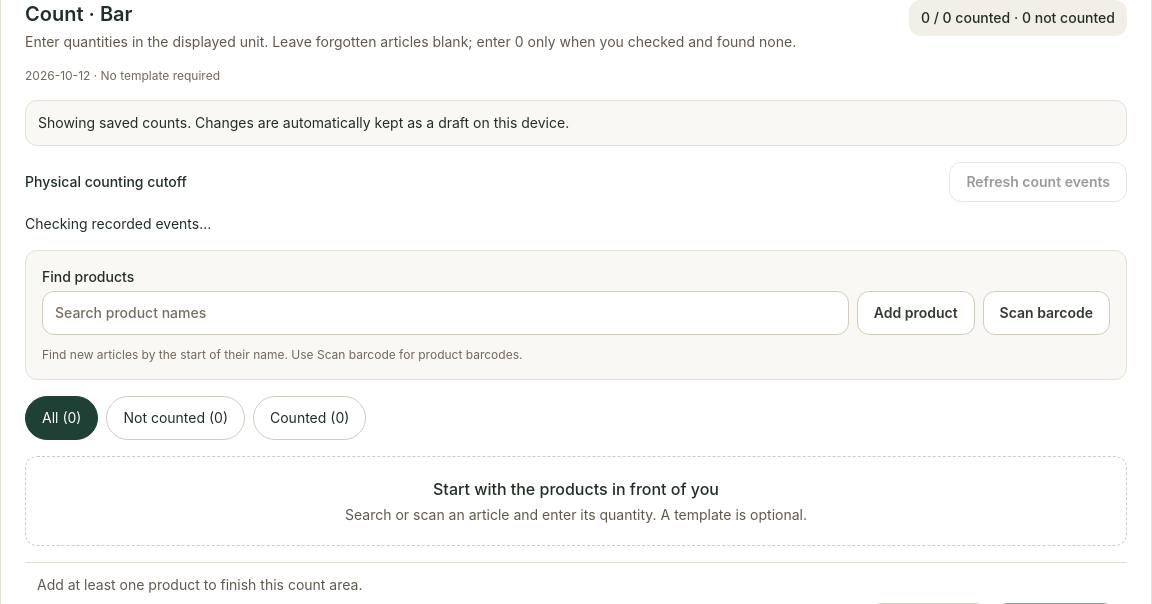
Test case: fails a repeated barcode cursor without silently choosing the first matching article
Click the button "Scan barcode".
click(1046, 313)  # box [983,291,1110,335]
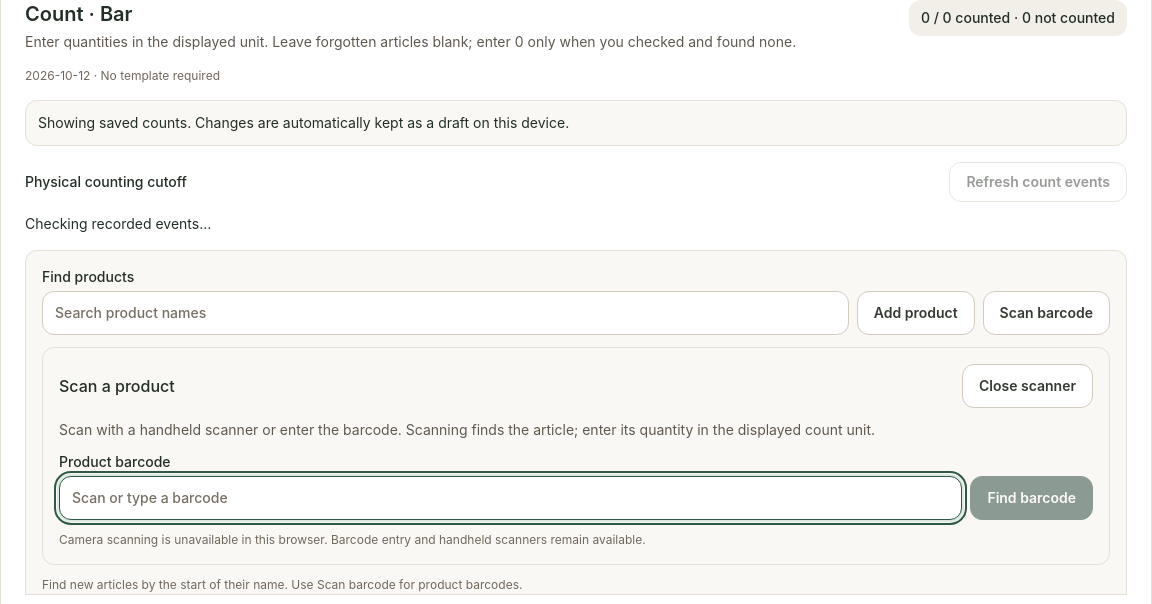
Type "000123" into the field labelled "Product barcode".
click(511, 498); type("000123")  # box [59,476,962,520]
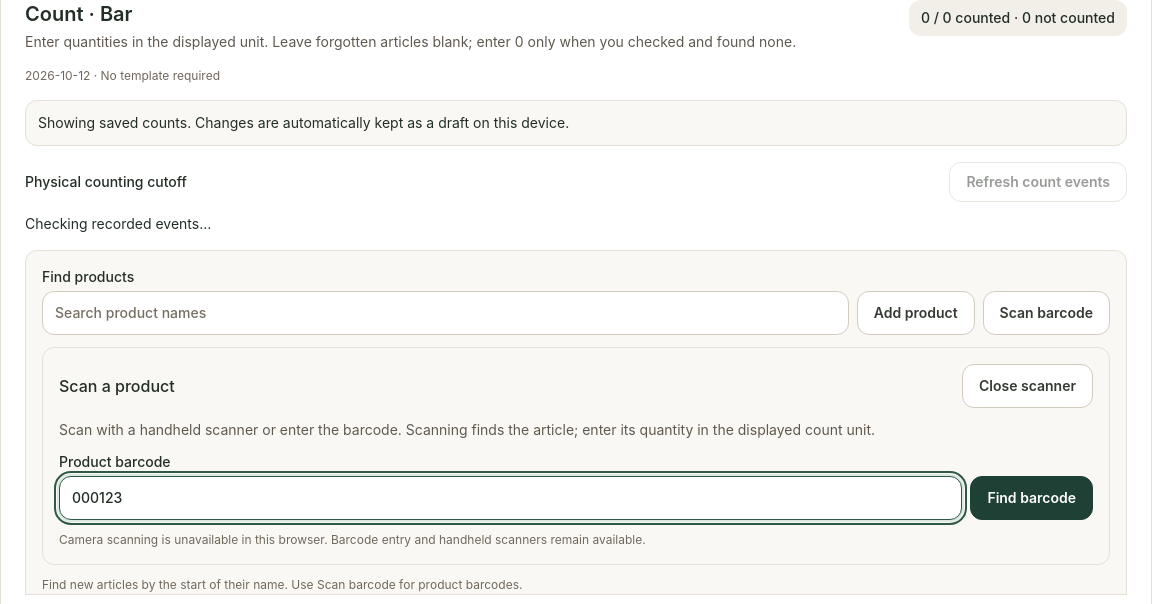
Click the button "Find barcode".
click(1032, 498)  # box [970,476,1093,520]
(page scrolled)
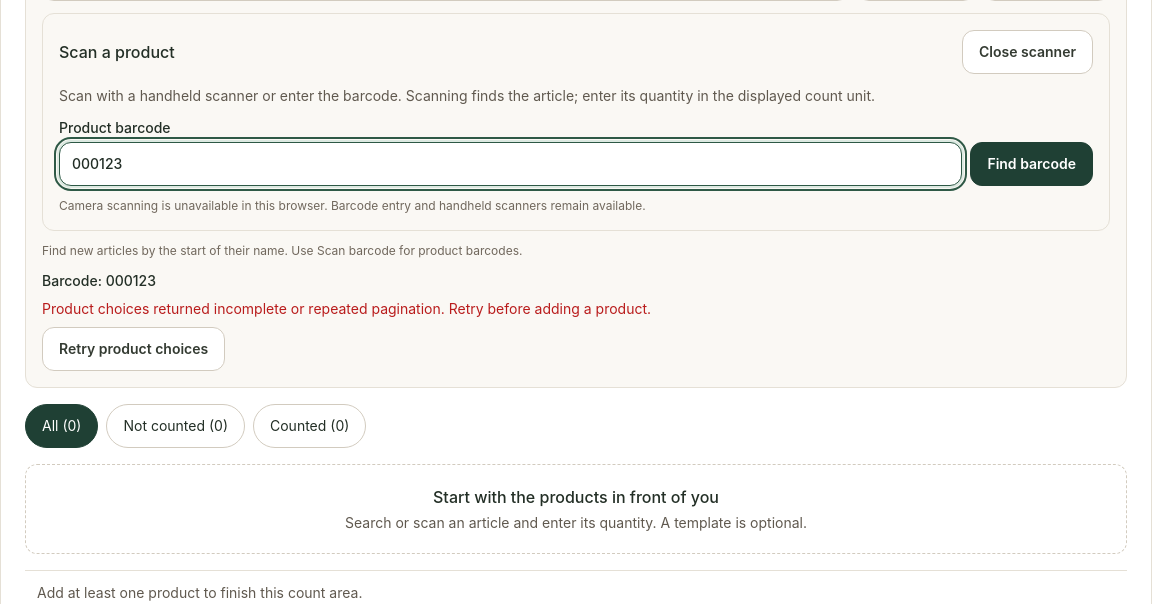
Result: the message shows "incomplete or repeated pagination" at [42,300,651,317]
